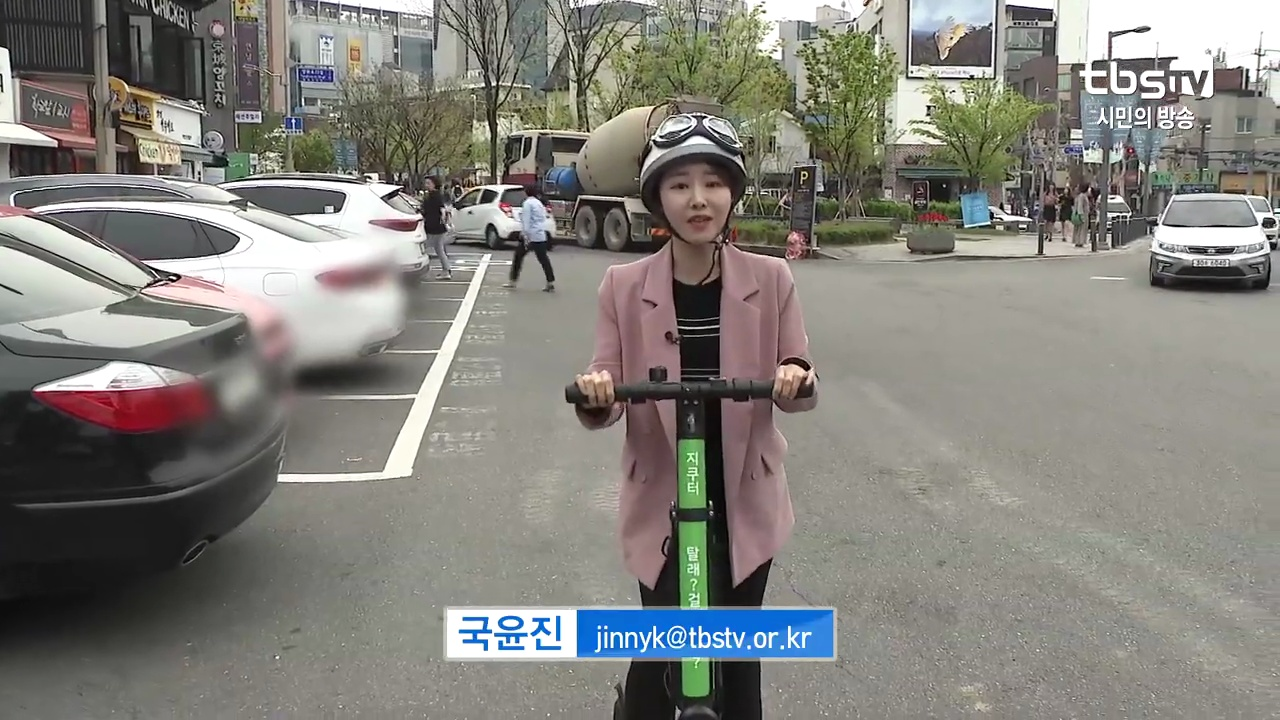helmet: (559, 111, 826, 720)
